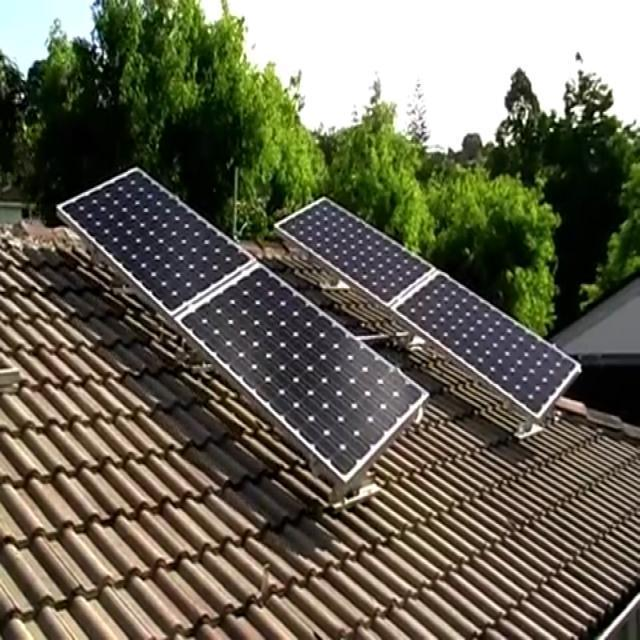Normal Solar Panel: (57, 168, 429, 493), (277, 200, 581, 417)
